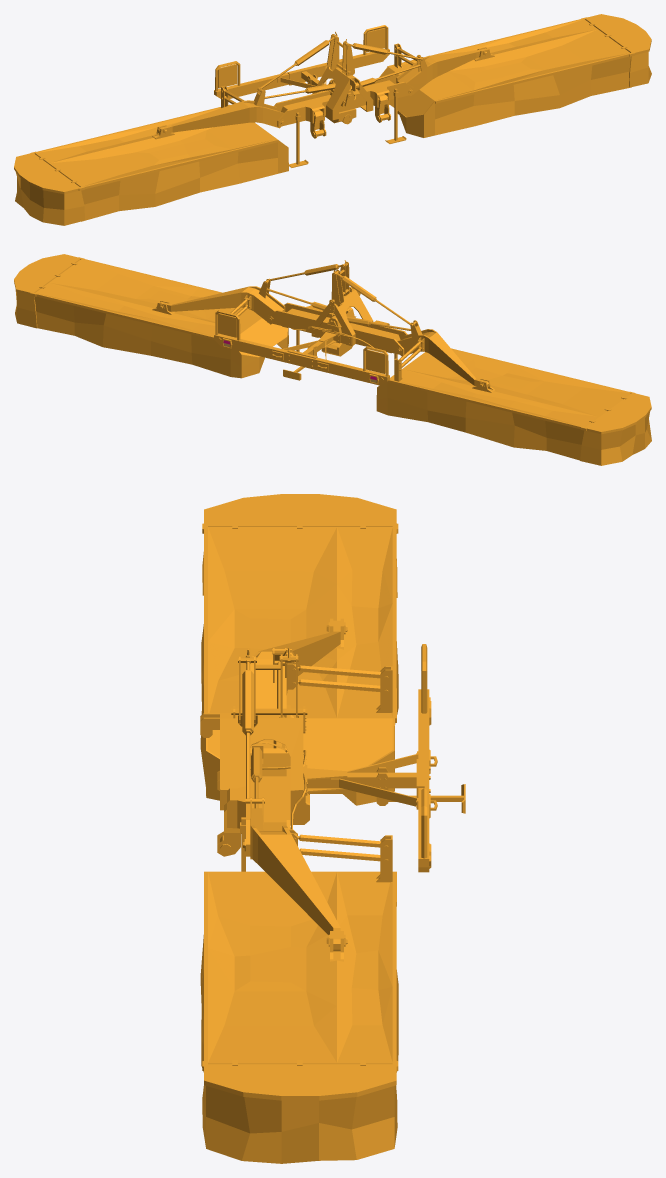
File: SM_Mower_Back.fbx
3 views of the same model, one above another, from view 1: azimuth 30°, elevation 25°; view 2: azimuth 150°, elevation 25°; view 3: azimuth 270°, elevation 25° (orthographic). The views are drawn at different scales.
Visible parts, largest first — view 1: mower-ba-blades-r, mower-ba-blades-l, mower-ba-base, mower-ba-stand-a; view 2: mower-ba-blades-r, mower-ba-blades-l, mower-ba-base; view 3: mower-ba-blades-l, mower-ba-blades-r, mower-ba-base.
Boxes of the visible parts, x1,y1,x2,y2 form: mower-ba-blades-r: (14, 86, 288, 225); mower-ba-blades-l: (379, 14, 651, 137); mower-ba-base: (214, 25, 414, 138); mower-ba-stand-a: (289, 88, 406, 167); mower-ba-blades-r: (376, 320, 651, 465); mower-ba-blades-l: (14, 254, 288, 378); mower-ba-base: (214, 261, 407, 385); mower-ba-blades-l: (200, 797, 398, 1163); mower-ba-blades-r: (200, 494, 398, 805); mower-ba-base: (200, 644, 437, 872).
Size of the model in its own units: 9.88 by 1.73 by 1.84.
